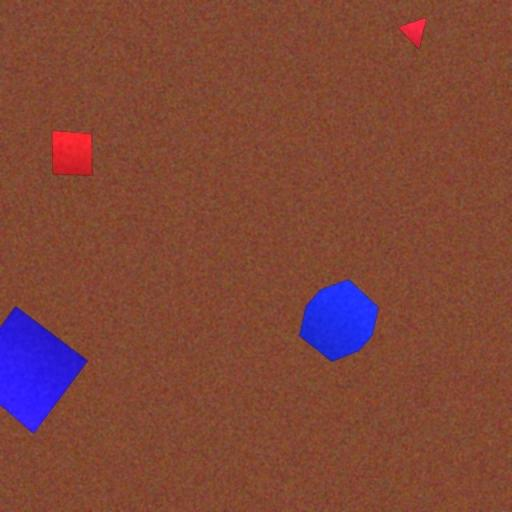BLUE_SQUARE: (0, 306, 89, 434)
RED_SQUARE: (51, 130, 93, 176)
